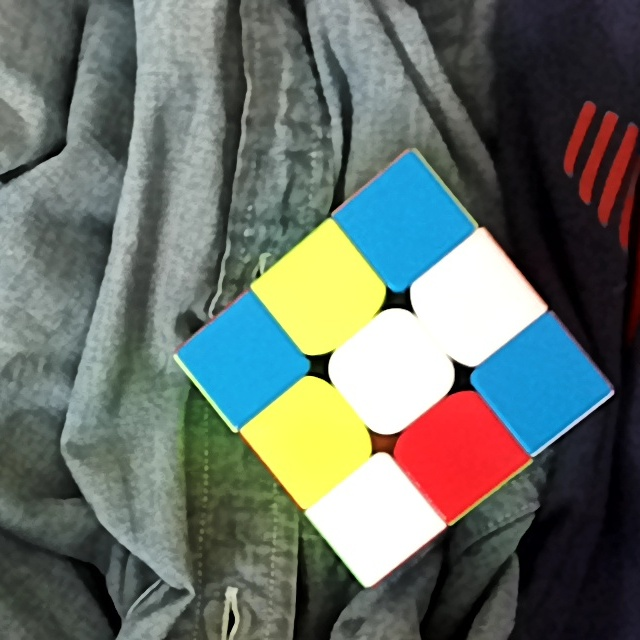tile: (436, 260, 513, 336), (272, 404, 348, 477), (507, 345, 578, 423), (369, 185, 443, 256), (337, 487, 410, 555), (286, 259, 357, 328), (420, 421, 489, 491), (357, 331, 422, 404), (212, 325, 273, 393)
